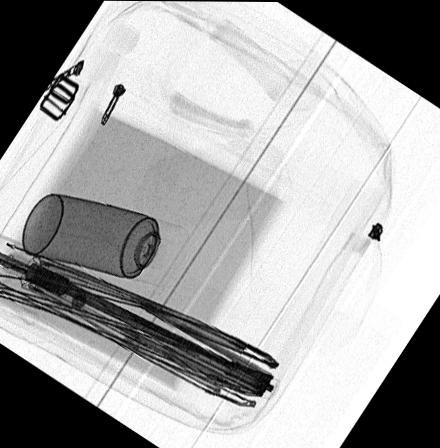Sprayer: (21, 192, 185, 284)
